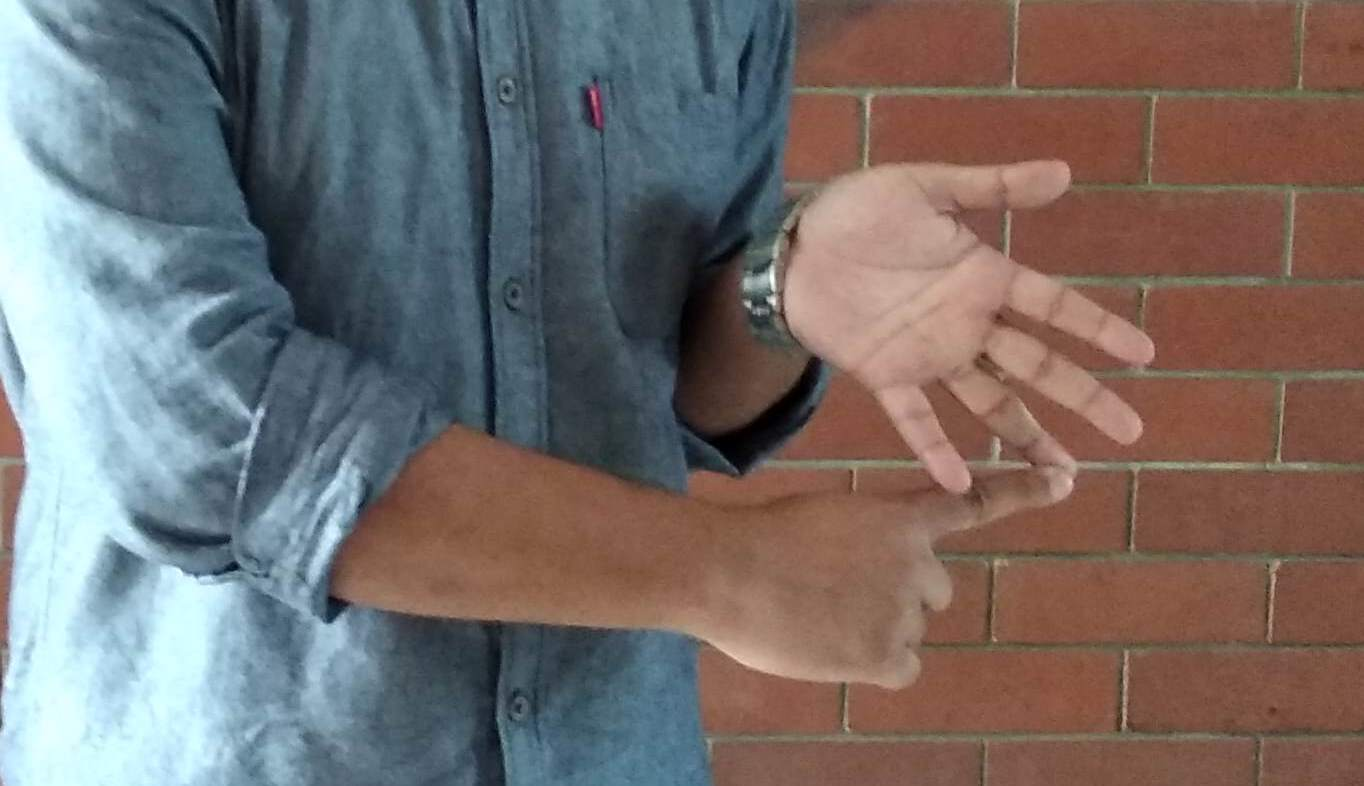e: (782, 176, 1171, 602)
